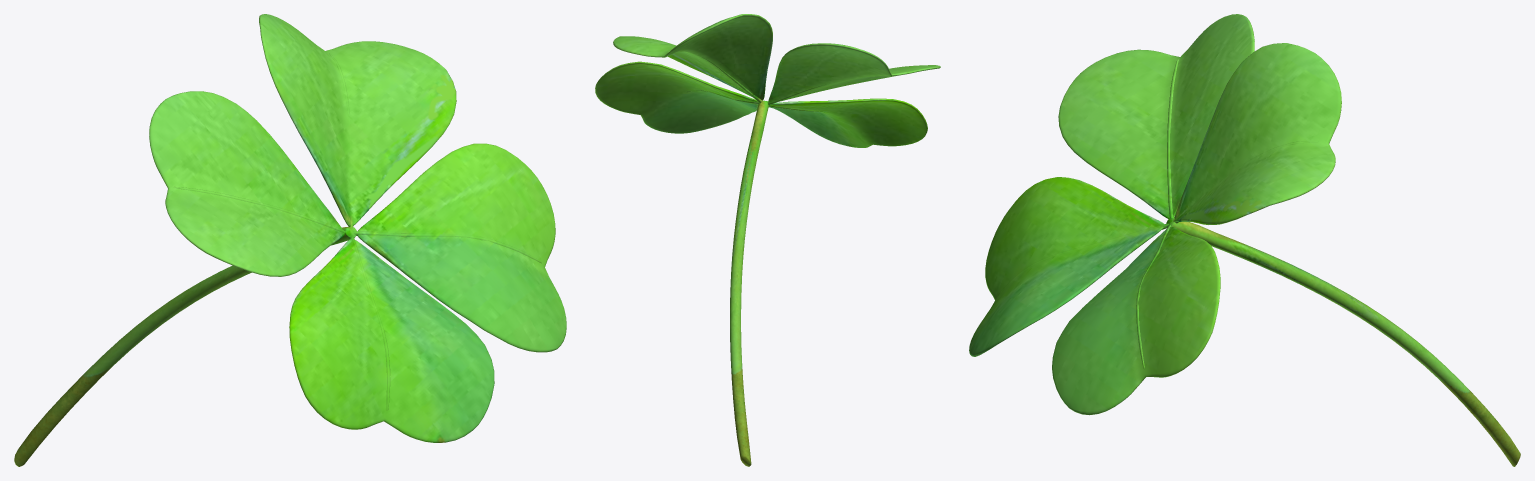
Rendered from 4clover.glb.
The picture shows the model from 3 angles, left to right: view 1: azimuth 30°, elevation 25°; view 2: azimuth 150°, elevation 25°; view 3: azimuth 270°, elevation 25°; orthographic projection. The views are drawn at different scales.
Visible parts, largest first — view 1: node_id30_2.004; view 2: node_id30_2.004; view 3: node_id30_2.004.
Boxes of the visible parts, bbox=[...] form: node_id30_2.004: bbox=[14, 14, 566, 466]; node_id30_2.004: bbox=[595, 14, 940, 466]; node_id30_2.004: bbox=[969, 14, 1520, 466].
Bounding box in the file's own units: 0.4106 × 0.4682 × 0.4858.
Materials: 1 (1 with a texture image).
